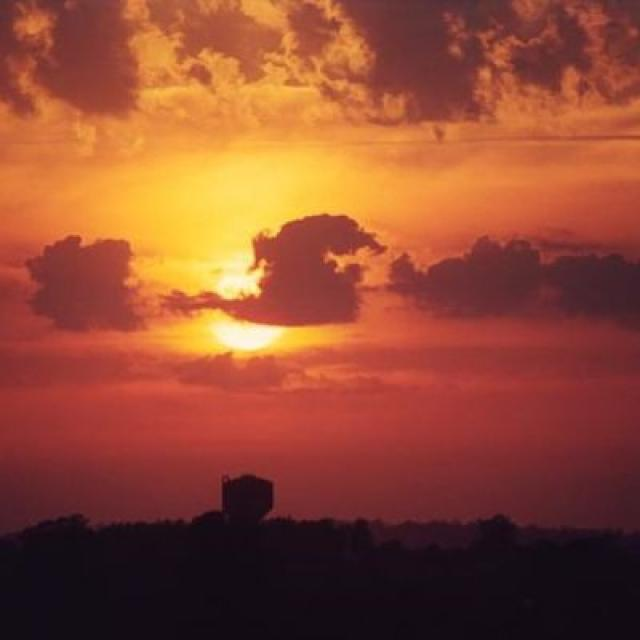Ac: (14, 17, 640, 420)
